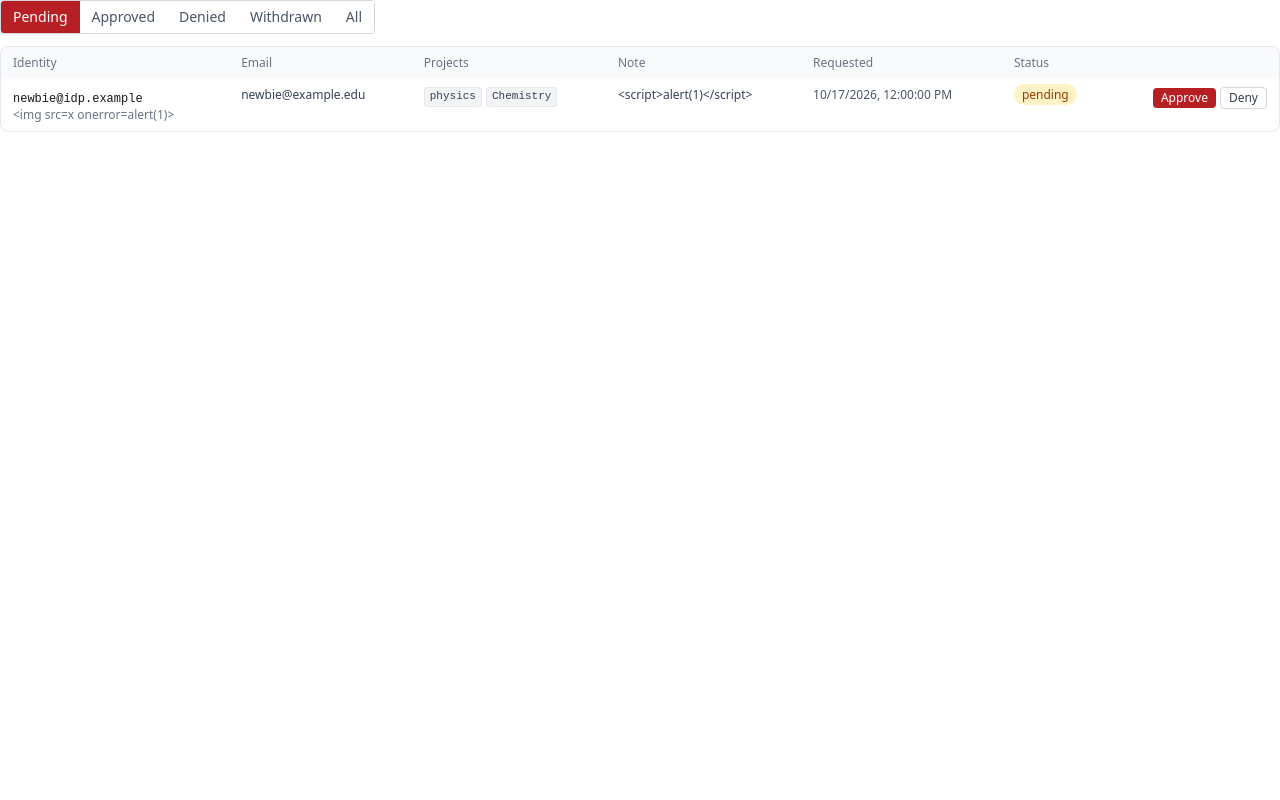
Test: Requests › approves through the Onboard user form, pre-filled from the request
The width and height of the screenshot is (1280, 800).
Click the button "Approve": click(1184, 98) [1153,88,1216,108]
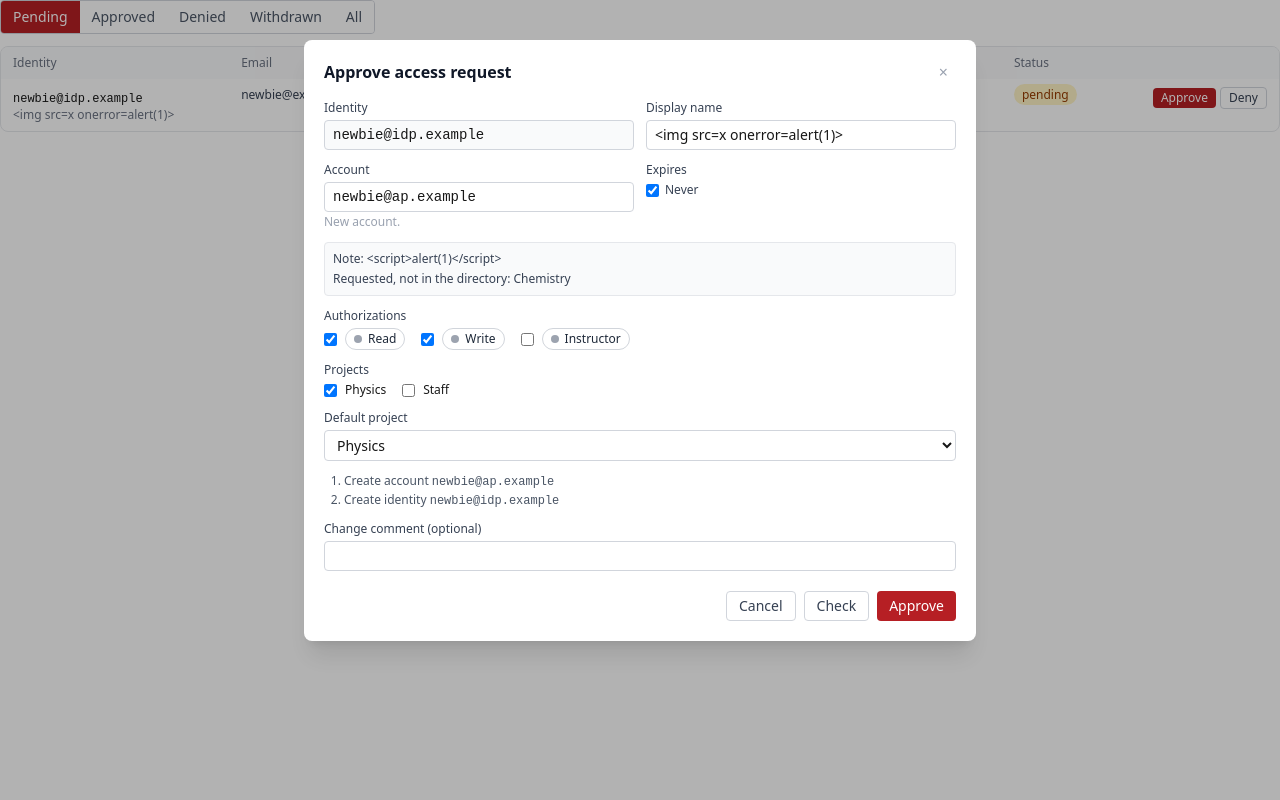
Check: the field labelled "Identity" holds "newbie@idp.example", box [324,120,634,150]
Check: the field labelled "Account New account." holds "newbie@ap.example", box [324,182,634,212]
Check: the field labelled "Display name" holds "<img src=x onerror=alert(1)>", box [646,120,956,150]
In the field labelled "Change comment (optional)": (640, 556) [324,541,956,571], type "welcome"
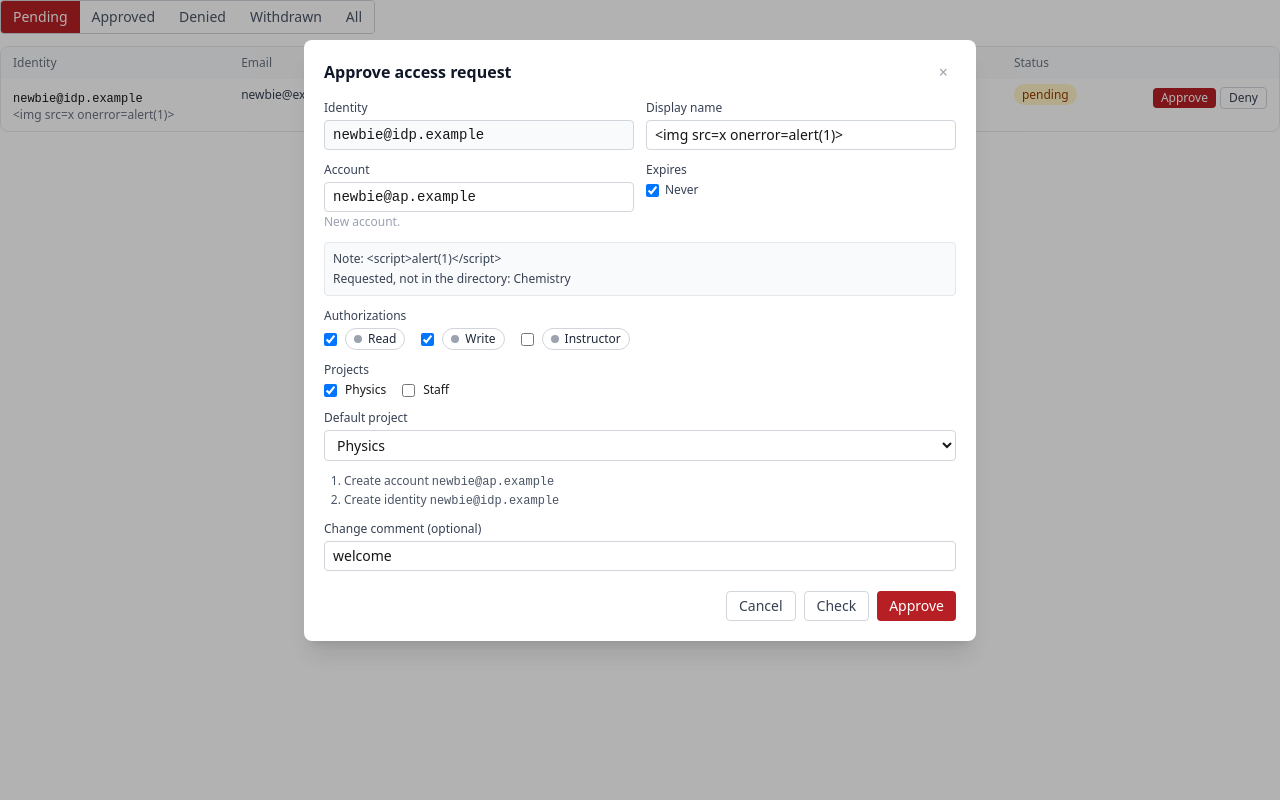
Click the button "Approve": click(917, 606) [877,591,956,621]
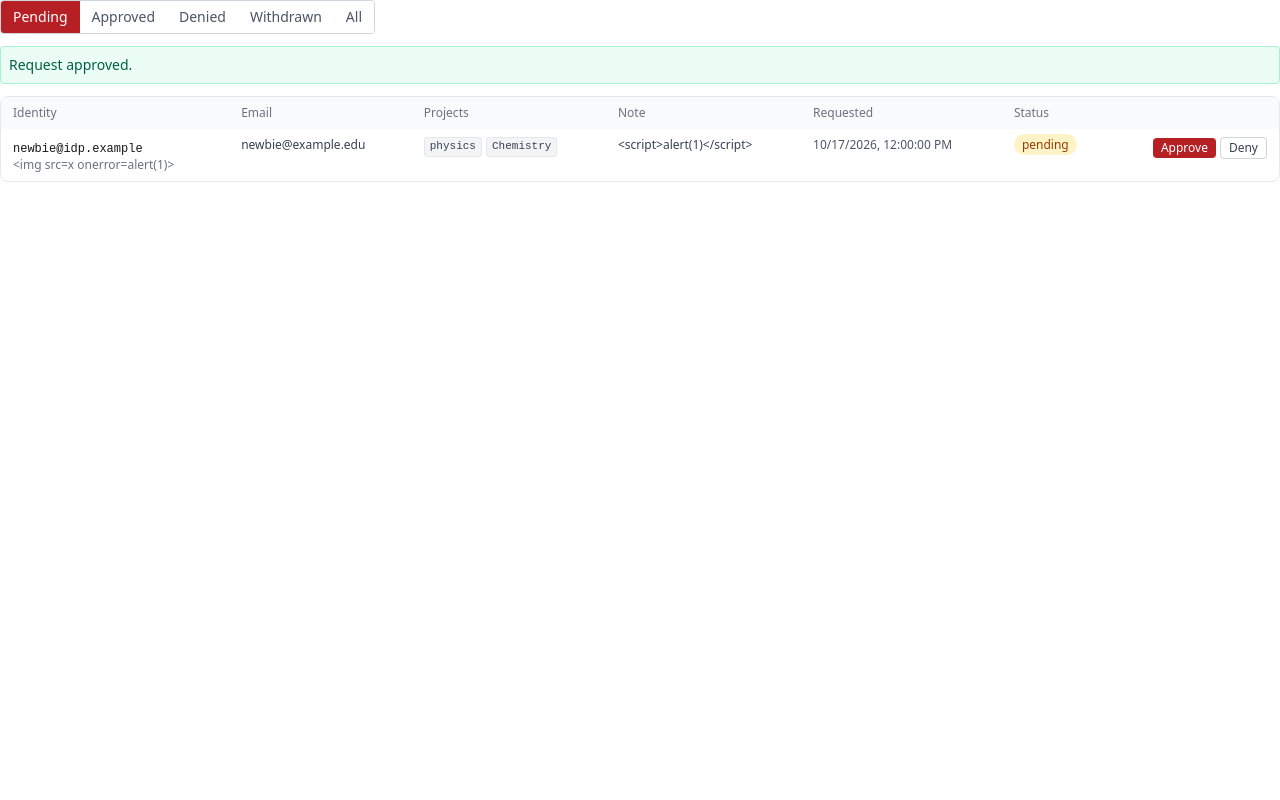
Check: the text "Request approved." is shown, box [0,46,1279,84]
